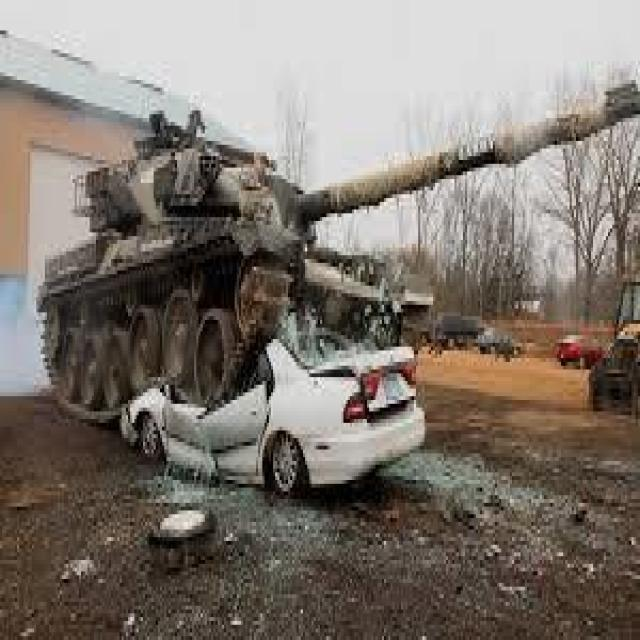MIL_MBT: (42, 88, 571, 438)
